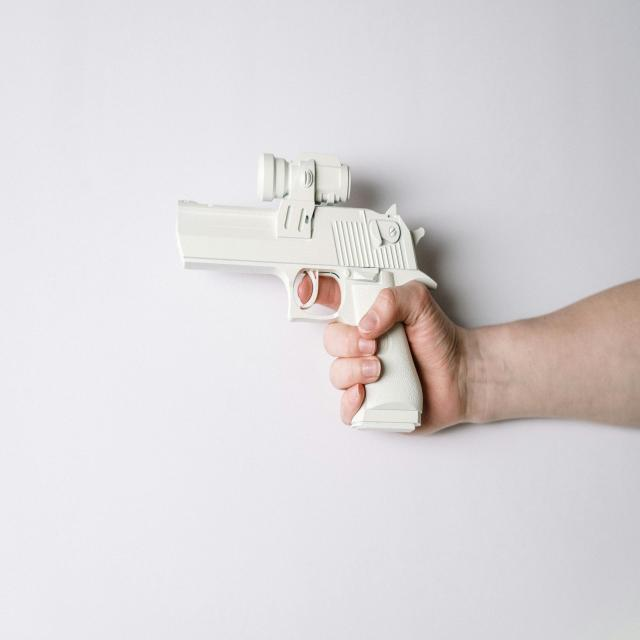Gun: (178, 154, 435, 324), (352, 326, 422, 431)
